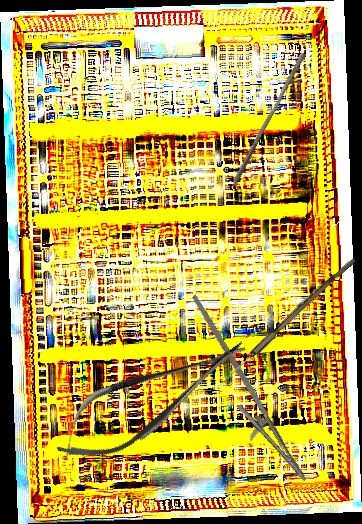Micro Scissor: (41, 319, 262, 479)
Needle Holder: (158, 293, 328, 493)
Pusher: (231, 49, 308, 188)
Surgical Spoon: (214, 254, 356, 393)
